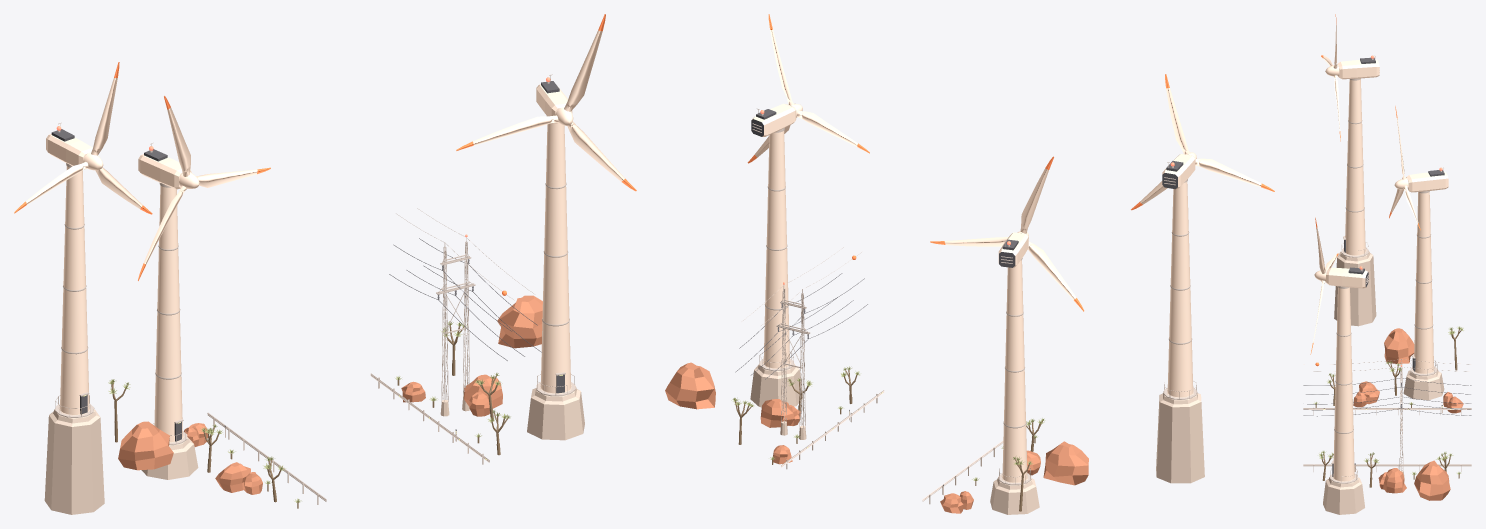
The model's file is night-drive-windmill.glb.
3 renders of one model, left to right at view 1: azimuth 30°, elevation 25°; view 2: azimuth 150°, elevation 25°; view 3: azimuth 270°, elevation 25°, orthographic. The views are drawn at different scales.
Parts seen in each view (by area): view 1: PassTurbineTowers, PassConcreteFootings, PassSandstoneBoulders, PassGuardrailAndPylon, BladeAssembly_R, BladeAssembly_Outer, BladeAssembly_L, PassCablesAndTrim, PassJoshuaTrunks, PassYuccaCrowns; view 2: PassTurbineTowers, PassConcreteFootings, PassSandstoneBoulders, PassGuardrailAndPylon, BladeAssembly_L, PassCablesAndTrim, BladeAssembly_Outer, BladeAssembly_R, PassJoshuaTrunks; view 3: PassTurbineTowers, PassConcreteFootings, PassSandstoneBoulders, PassGuardrailAndPylon, PassCablesAndTrim, PassJoshuaTrunks, BladeAssembly_L, BladeAssembly_R, BladeAssembly_Outer, PassYuccaCrowns.
Boxes of the visible parts, left/top/right/bottom form: PassTurbineTowers: left=46, top=84, right=572, bottom=442; PassConcreteFootings: left=44, top=384, right=584, bottom=514; PassSandstoneBoulders: left=118, top=295, right=542, bottom=494; PassGuardrailAndPylon: left=55, top=74, right=575, bottom=504; BladeAssembly_R: left=473, top=30, right=624, bottom=181; BladeAssembly_Outer: left=26, top=78, right=142, bottom=208; BladeAssembly_L: left=144, top=107, right=257, bottom=264; PassCablesAndTrim: left=51, top=81, right=564, bottom=458; PassJoshuaTrunks: left=111, top=325, right=508, bottom=508; PassYuccaCrowns: left=108, top=321, right=510, bottom=502; PassTurbineTowers: left=752, top=103, right=1195, bottom=482; PassConcreteFootings: left=750, top=362, right=1204, bottom=514; PassSandstoneBoulders: left=665, top=362, right=1088, bottom=513; PassGuardrailAndPylon: left=742, top=108, right=1197, bottom=504; BladeAssembly_L: left=944, top=168, right=1076, bottom=299; PassCablesAndTrim: left=735, top=109, right=1183, bottom=485; BladeAssembly_Outer: left=1140, top=88, right=1261, bottom=204; BladeAssembly_R: left=754, top=29, right=857, bottom=157; PassJoshuaTrunks: left=735, top=370, right=1042, bottom=511; PassTurbineTowers: left=1326, top=59, right=1448, bottom=481; PassConcreteFootings: left=1323, top=250, right=1444, bottom=514; PassSandstoneBoulders: left=1353, top=328, right=1463, bottom=500; PassGuardrailAndPylon: left=1303, top=56, right=1471, bottom=483; PassCablesAndTrim: left=1303, top=57, right=1471, bottom=476; PassJoshuaTrunks: left=1315, top=329, right=1461, bottom=487; BladeAssembly_L: left=1391, top=118, right=1418, bottom=224; BladeAssembly_R: left=1313, top=227, right=1336, bottom=342; BladeAssembly_Outer: left=1323, top=25, right=1340, bottom=130; PassYuccaCrowns: left=1313, top=326, right=1463, bottom=474.
Size of the model in its own units: 72.6 by 53.6 by 24.
